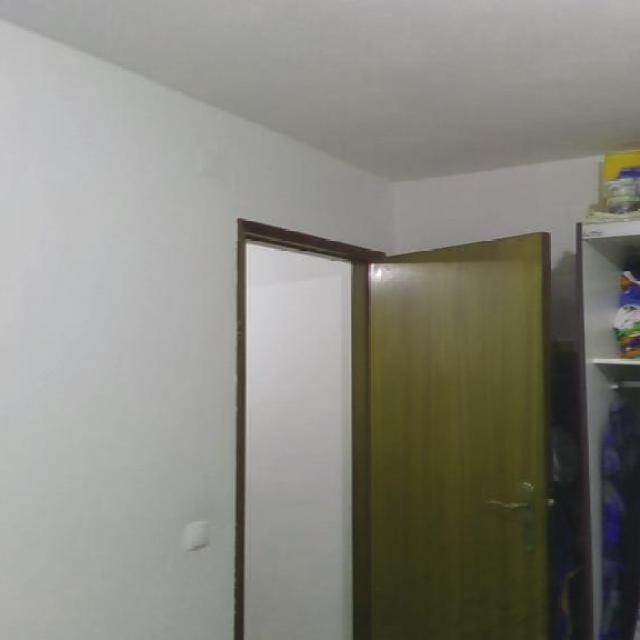door: (365, 230, 551, 638)
